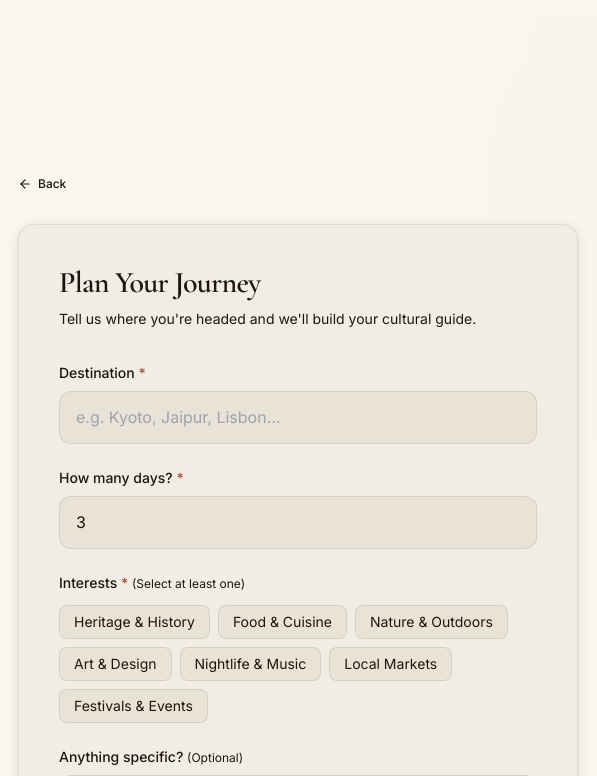
app/page.tsx - Home Page › disables submit button until destination and at least one interest are populated
(page scrolled)
// Fill only destination
In the field labelled "Destination *": [298, 417] box [59,391,537,444], type "Kyoto"
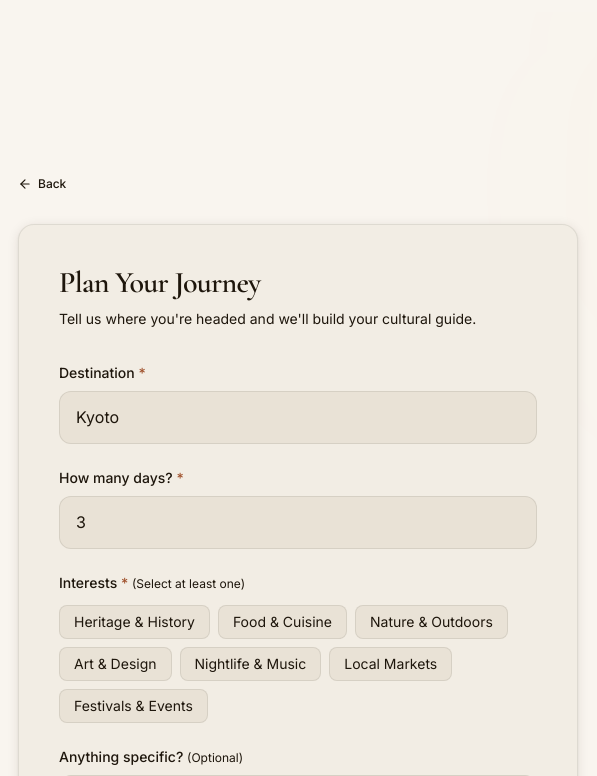
// Clear destination and toggle interest
Clear the field labelled "Destination *": [298, 417] box [59,391,537,444]
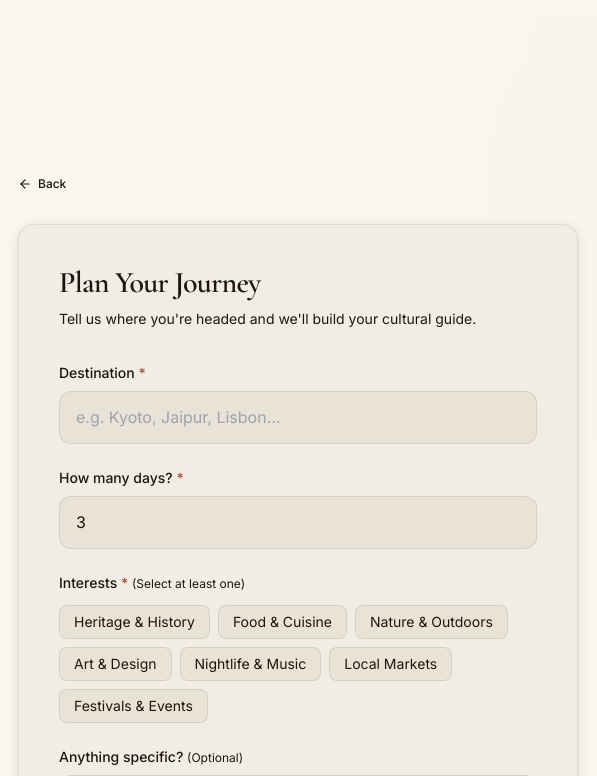
Click the button "Food & Cuisine": [282, 622] box [218,605,347,639]
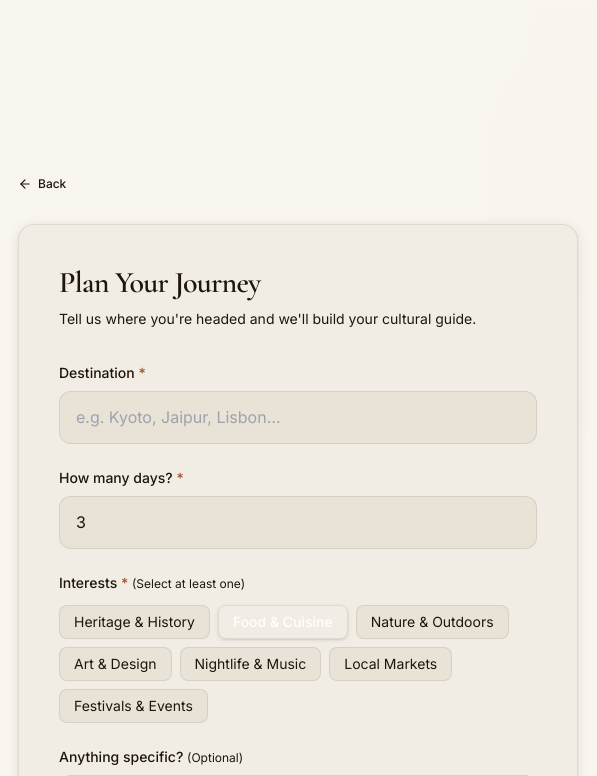
// Fill both destination and interest
In the field labelled "Destination *": [298, 417] box [59,391,537,444], type "Kyoto"
(page scrolled)
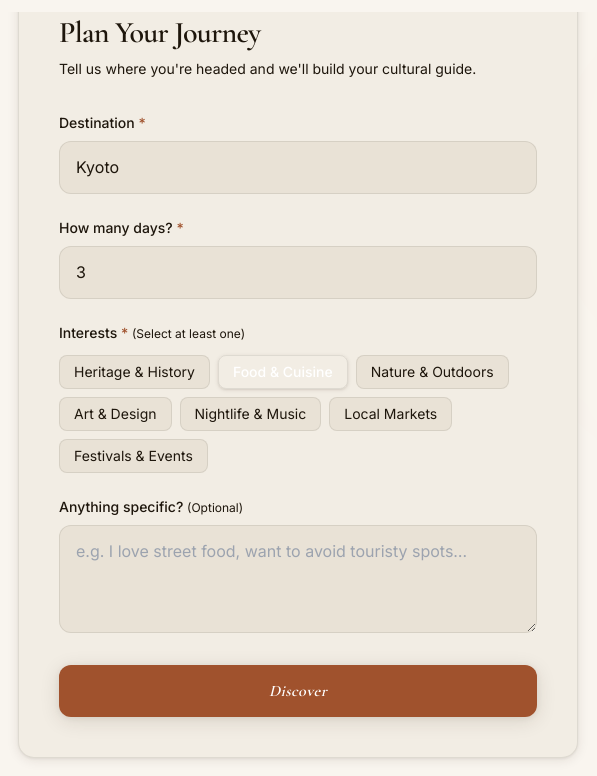
Expected: the button "Discover" is enabled, [59,665,537,717]
